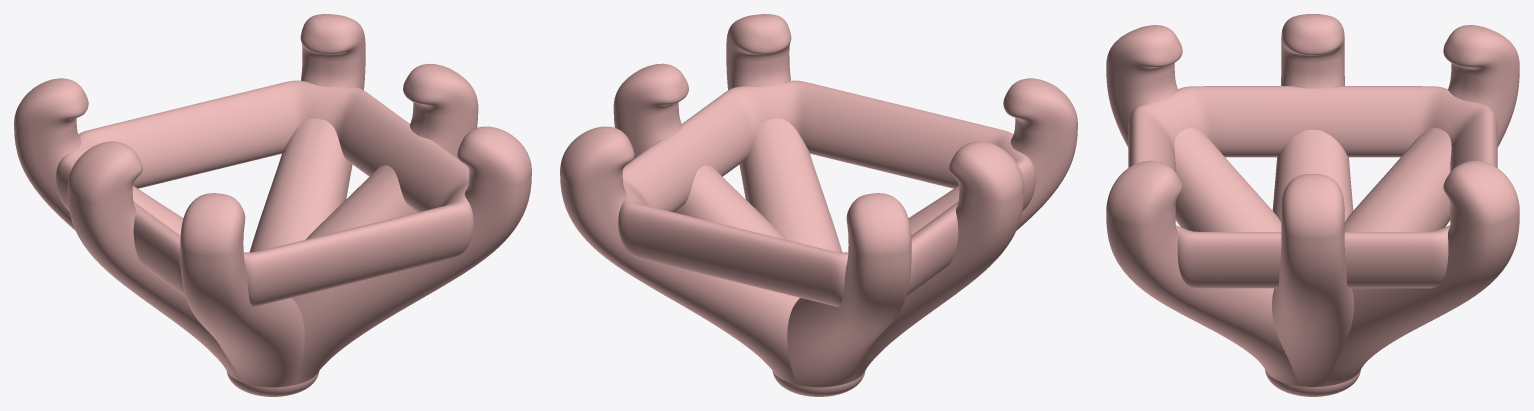
Rendered from RADIANT.glb.
3 views of the same model, side by side, from view 1: azimuth 30°, elevation 25°; view 2: azimuth 150°, elevation 25°; view 3: azimuth 270°, elevation 25° (orthographic). The views are drawn at different scales.
Visible parts, largest first — view 1: radiant.001; view 2: radiant.001; view 3: radiant.001.
Boxes of the visible parts, box(x1,y1,x2,y2) form: radiant.001: box(14, 14, 531, 396); radiant.001: box(560, 14, 1077, 396); radiant.001: box(1106, 14, 1519, 396).
Size of the model in its own units: 6.4 by 4.3 by 5.57.
